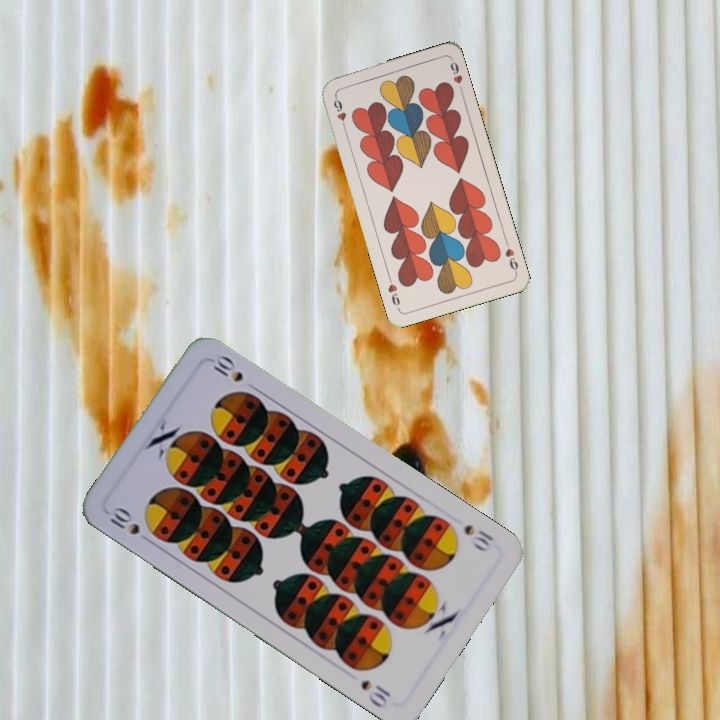H9: (329, 91, 349, 131), (501, 237, 521, 276)
S10: (105, 503, 155, 547), (460, 520, 497, 555)
